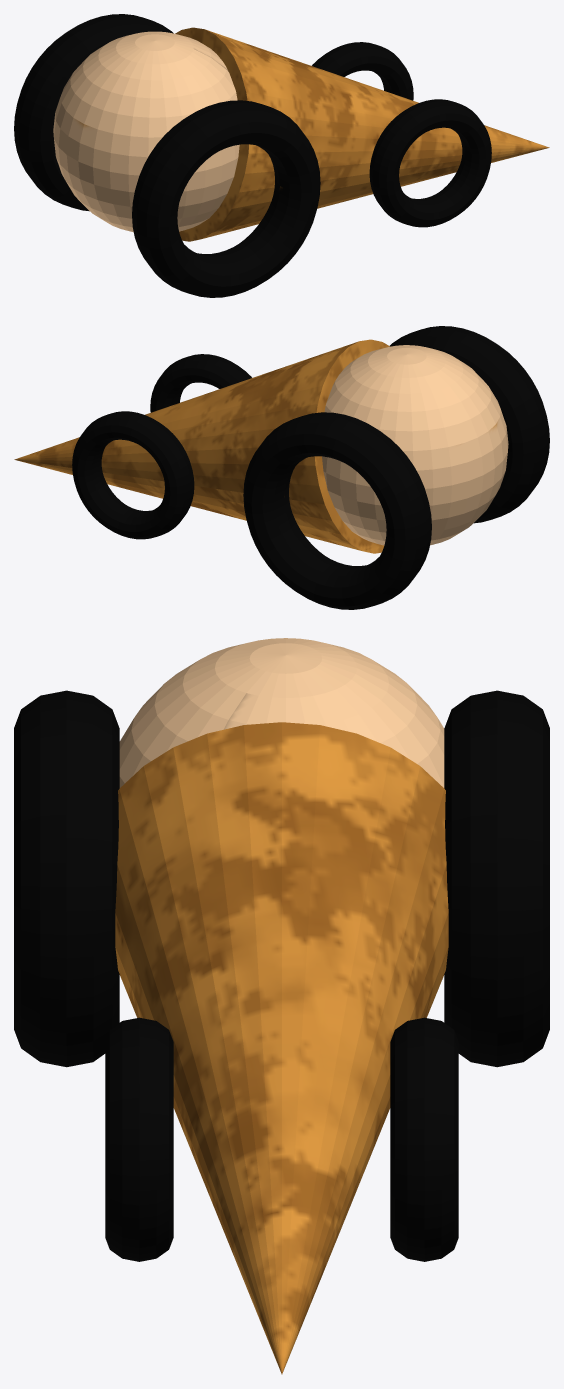
Rendered from carro.obj.
3 views of the same model, one above another, from view 1: azimuth 30°, elevation 25°; view 2: azimuth 150°, elevation 25°; view 3: azimuth 270°, elevation 25° (orthographic). The views are drawn at different scales.
Visible parts, largest first — view 1: objMesh; view 2: objMesh; view 3: objMesh.
Part boxes in pixels (x1=…): objMesh: x1=14, y1=14, x2=549, y2=297; objMesh: x1=14, y1=326, x2=549, y2=609; objMesh: x1=14, y1=638, x2=549, y2=1374.
Bounding box in the file's own units: 2.6 × 1.09 × 1.37.
1 material, 1 textured.
